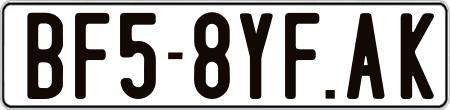5: (117, 13, 155, 100)
8: (194, 12, 230, 99)
A: (345, 11, 386, 100)
B: (24, 13, 61, 99)
F: (285, 13, 321, 105), (72, 13, 107, 100)
K: (398, 10, 434, 102)
Y: (238, 12, 276, 104)
